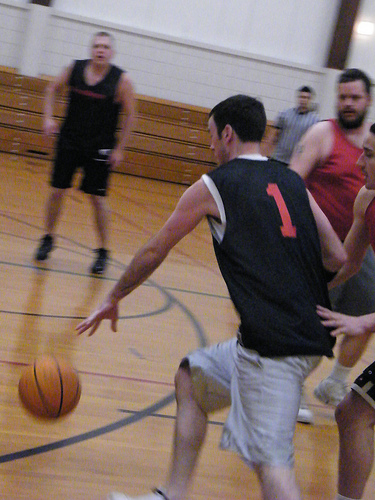basketball: (19, 356, 83, 418)
